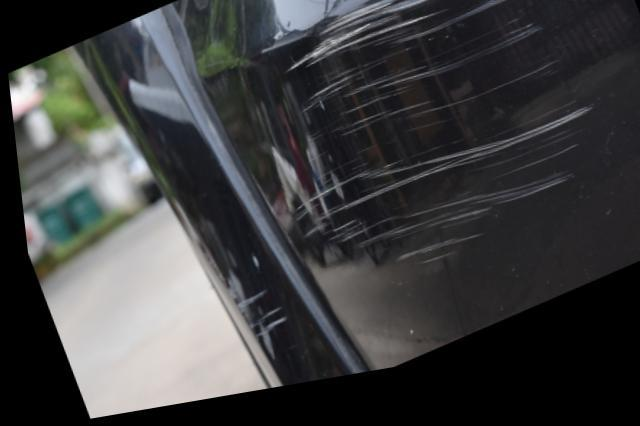scratch: (272, 0, 589, 284), (223, 293, 282, 372)
